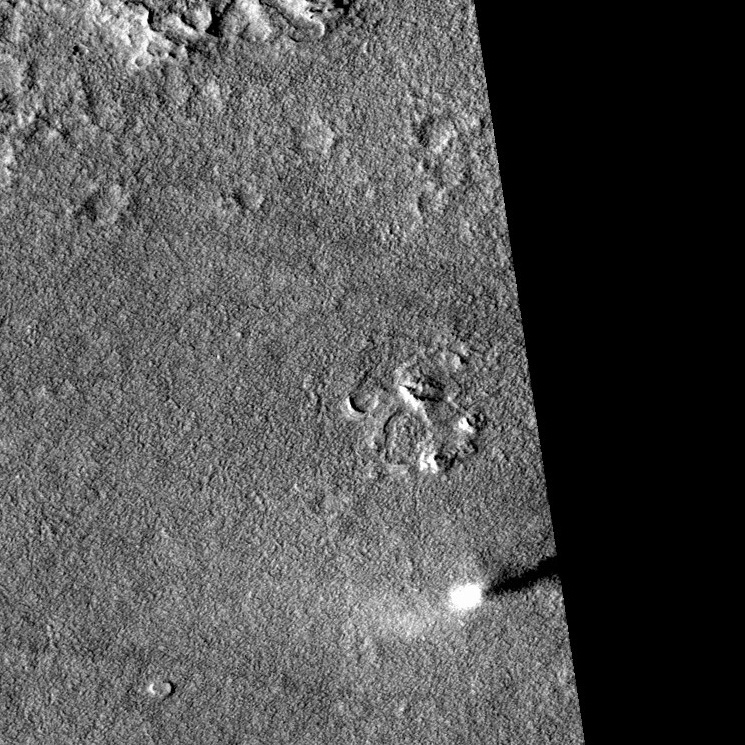dust_devil: (441, 549, 558, 619)
